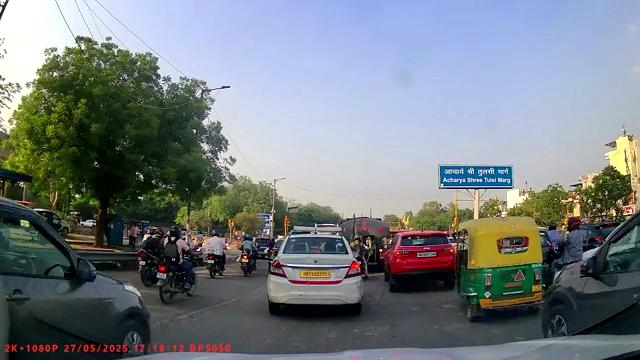motorcycle_with_helmet: (159, 226, 197, 305), (206, 231, 227, 279)
